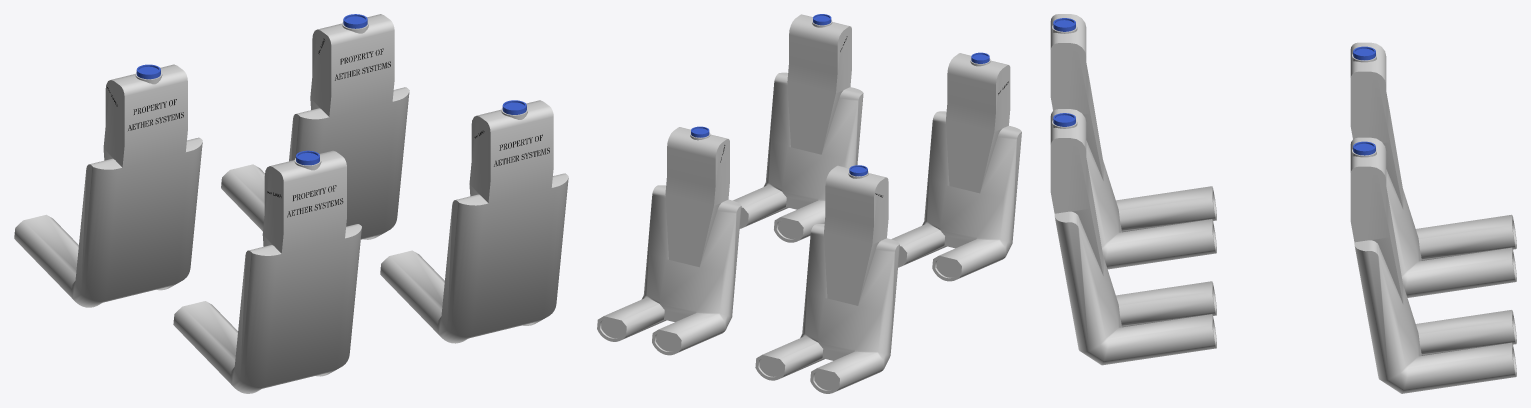
The model's file is Dummy.dae.
3 views of the same model, side by side, from view 1: azimuth 30°, elevation 25°; view 2: azimuth 150°, elevation 25°; view 3: azimuth 270°, elevation 25° (orthographic). The views are drawn at different scales.
Parts seen in each view (by area): view 1: Component4, Component3, Component5, Component; view 2: Component5, Component, Component4, Component3; view 3: Component, Component3, Component4, Component5.
Part boxes in pixels (left/top/right/bottom): Component4: left=173, top=150, right=361, bottom=393; Component3: left=380, top=100, right=568, bottom=343; Component5: left=14, top=64, right=202, bottom=307; Component: left=221, top=14, right=409, bottom=239; Component5: left=755, top=165, right=899, bottom=393; Component: left=597, top=127, right=741, bottom=355; Component4: left=891, top=53, right=1021, bottom=281; Component3: left=733, top=14, right=863, bottom=242; Component: left=1350, top=137, right=1516, bottom=393; Component3: left=1050, top=109, right=1216, bottom=365; Component4: left=1050, top=14, right=1216, bottom=269; Component5: left=1350, top=42, right=1516, bottom=297.
Bounding box in the file's own units: 42.93 × 58.28 × 35.49.
